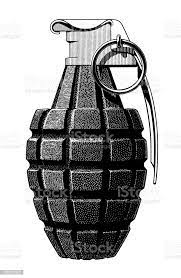bomb: (24, 16, 159, 259)
